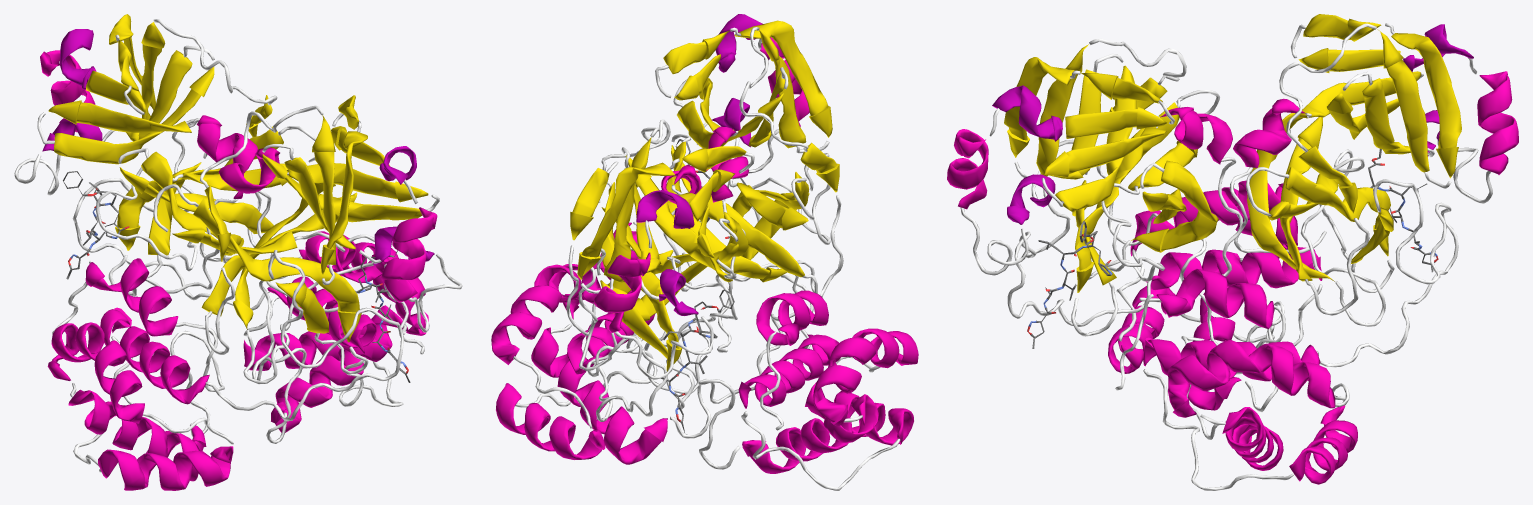
3 views of the same model, side by side, from view 1: azimuth 30°, elevation 25°; view 2: azimuth 150°, elevation 25°; view 3: azimuth 270°, elevation 25° (orthographic). The views are drawn at different scales.
Parts seen in each view (by area): view 1: The crystal structure of COVID-19 main protease_c; view 2: The crystal structure of COVID-19 main protease_c; view 3: The crystal structure of COVID-19 main protease_c.
Boxes of the visible parts, x1=… form: The crystal structure of COVID-19 main protease_c: x1=14, y1=14, x2=462, y2=490; The crystal structure of COVID-19 main protease_c: x1=491, y1=14, x2=918, y2=490; The crystal structure of COVID-19 main protease_c: x1=947, y1=14, x2=1518, y2=490.
Bounding box in the file's own units: 54.48 × 60.27 × 76.51.
